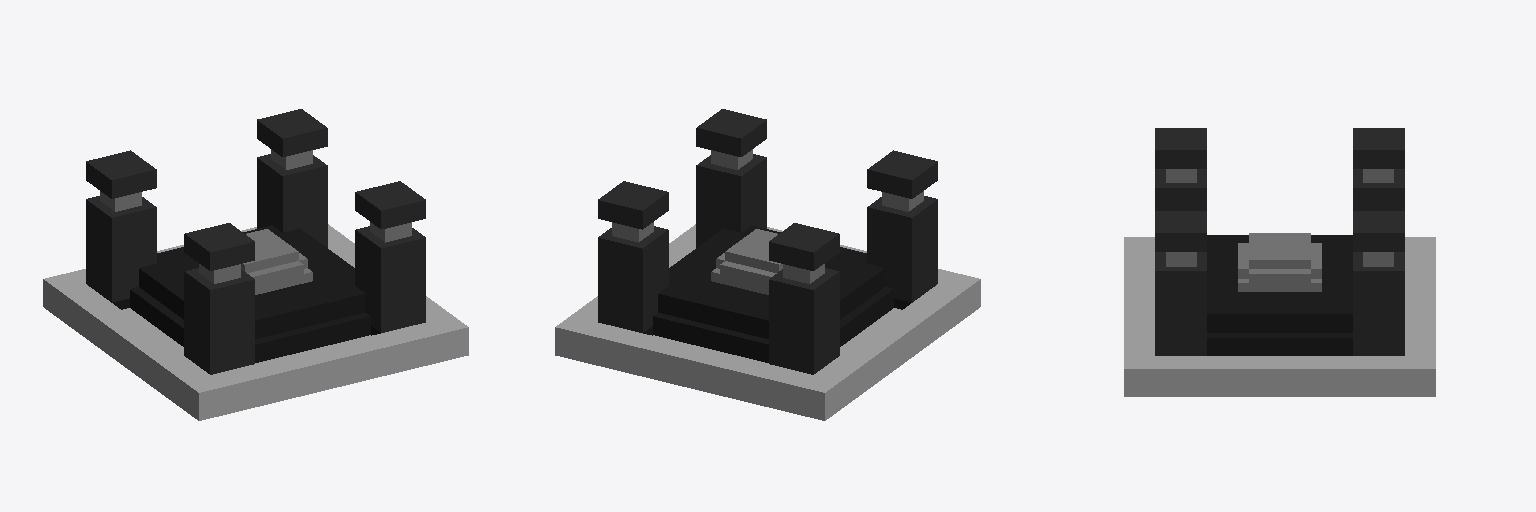
3 renders of one model, left to right at view 1: azimuth 30°, elevation 25°; view 2: azimuth 150°, elevation 25°; view 3: azimuth 270°, elevation 25°, orthographic.
Visible parts, largest first — view 1: object 1; view 2: object 1; view 3: object 1.
Boxes of the visible parts, box(x1,y1,x2,y2) form: object 1: box(43, 109, 468, 420); object 1: box(555, 109, 980, 420); object 1: box(1124, 128, 1435, 396).
Bounding box in the file's own units: 3 × 1.6 × 3.
1 materials, 1 textured.